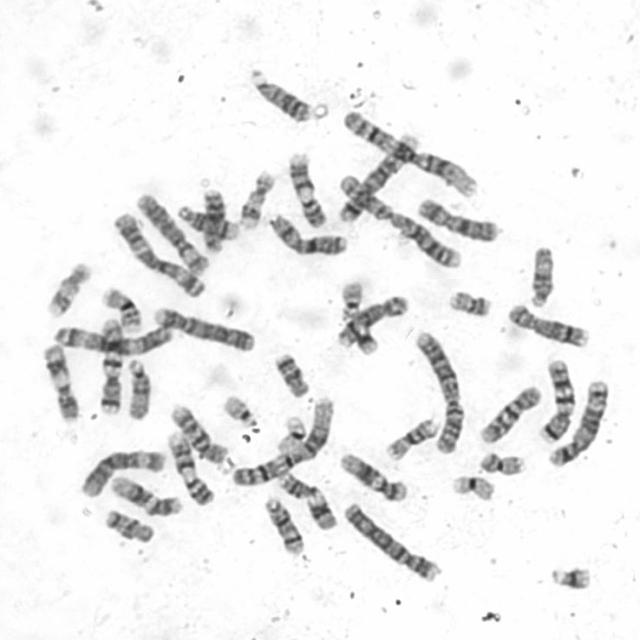A1: (342, 109, 480, 198), (232, 394, 336, 488)
A2: (338, 172, 462, 269), (412, 331, 466, 455)
A3: (111, 210, 207, 298), (53, 325, 171, 358)
B4: (342, 500, 442, 582), (152, 307, 256, 353)
B5: (339, 133, 422, 223), (548, 378, 611, 468)
C10: (477, 384, 541, 445), (169, 403, 228, 465)
C11: (274, 472, 339, 530), (40, 345, 81, 420)
C12: (338, 450, 408, 503), (112, 476, 183, 515)
C6: (135, 192, 210, 275), (82, 451, 168, 499)
C7: (538, 358, 576, 444), (100, 318, 125, 414)
C8: (335, 292, 408, 350), (506, 304, 592, 350)
C9: (166, 430, 216, 505), (285, 150, 328, 228)
D13: (247, 66, 313, 125), (202, 188, 226, 255)
D14: (262, 495, 305, 557), (176, 204, 239, 239)
D15: (529, 245, 555, 309), (128, 358, 152, 422)
E16: (387, 415, 437, 462), (102, 287, 143, 332)
E17: (46, 262, 91, 318), (238, 168, 278, 229)
E18: (102, 507, 154, 545), (273, 352, 311, 398)
F19: (449, 475, 498, 505), (276, 414, 307, 454)
F20: (477, 449, 528, 476), (448, 288, 492, 318)
G21: (551, 564, 593, 592), (340, 279, 363, 324)
G22: (222, 392, 260, 427), (354, 327, 381, 354)
X: (416, 196, 500, 242), (268, 212, 349, 256)
